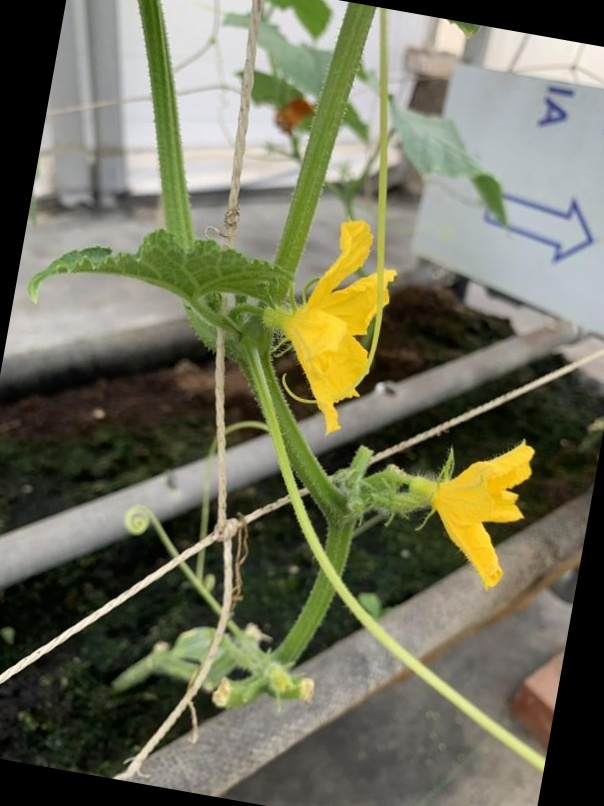flowering: (256, 211, 402, 424), (422, 422, 541, 592)
